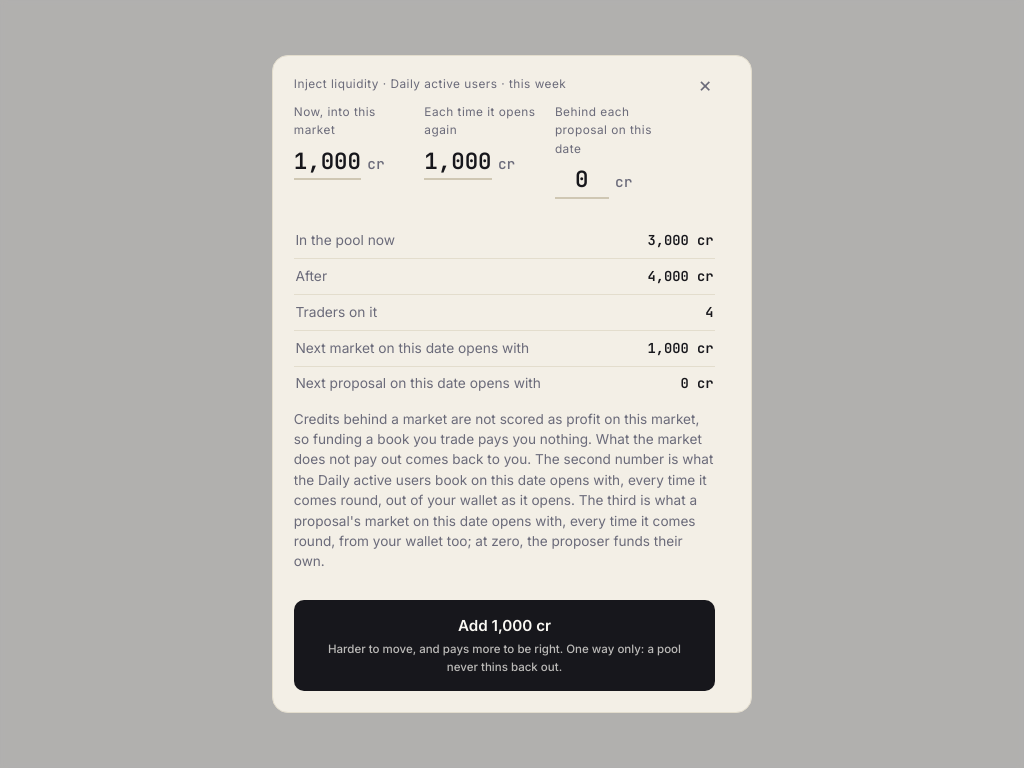
Scenario: dialog 3: three numbers for a manager on a baseline market with a date row › a non-number in the third field reaches no API
The image size is (1024, 768).
Clear the field named "Credits behind each proposal on this date" at [582, 181], box x1=555 y1=163 x2=609 y2=199
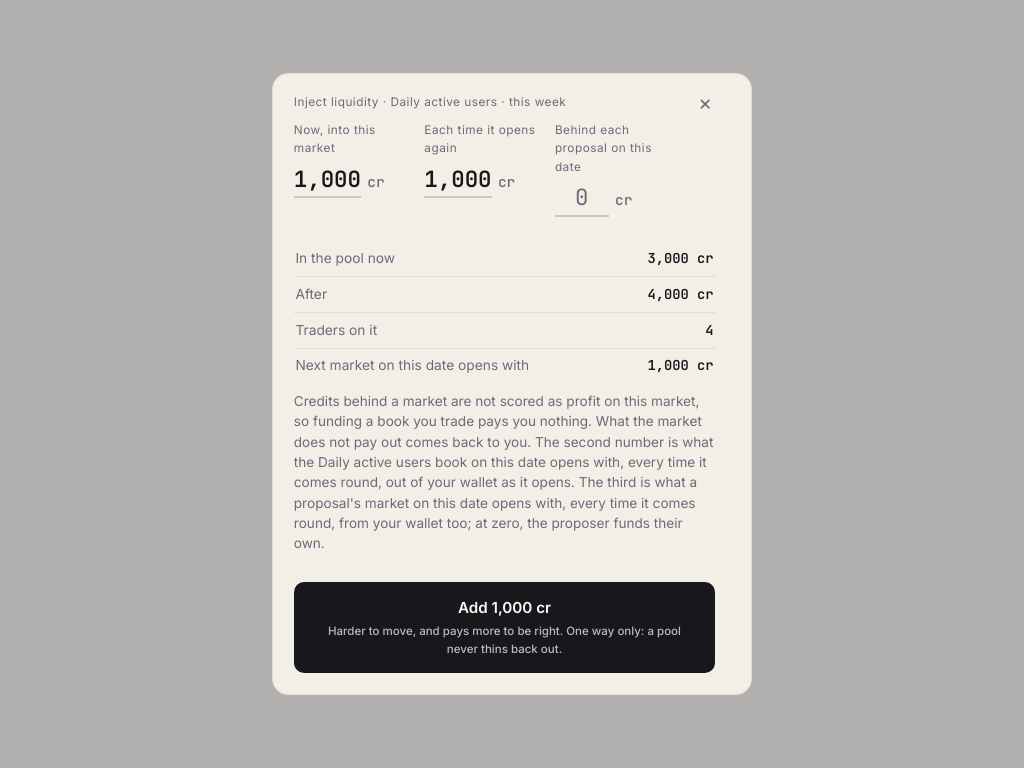
Click the button "Add" at [504, 628], box x1=294 y1=582 x2=715 y2=673
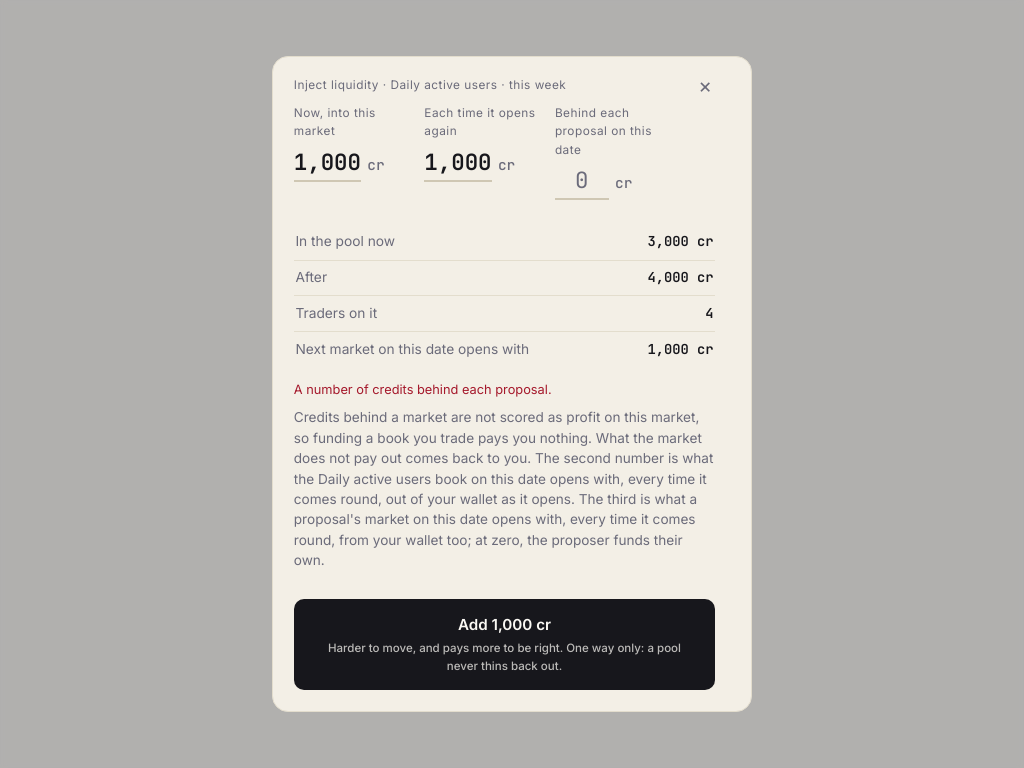
Expected: the text "A number of credits behind each proposal." is shown, x1=294 y1=382 x2=552 y2=397
